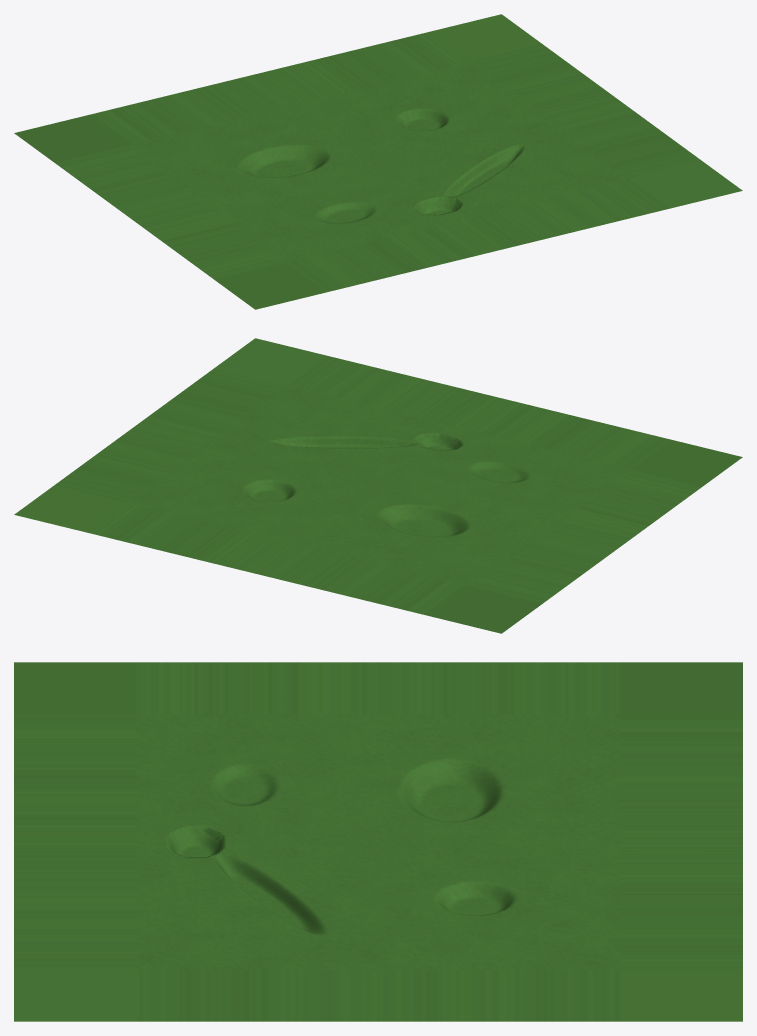
File: water-demo.glb
3 renders of one model, top to bottom at view 1: azimuth 30°, elevation 25°; view 2: azimuth 150°, elevation 25°; view 3: azimuth 270°, elevation 25°, orthographic. The views are drawn at different scales.
Visible parts, largest first — view 1: ground; view 2: ground; view 3: ground.
Part boxes in pixels (x1,y1,x2,y2): ground: (14, 14, 742, 309); ground: (14, 338, 742, 633); ground: (14, 662, 742, 1021).
Size of the model in its own units: 140 by 2.41 by 120.
